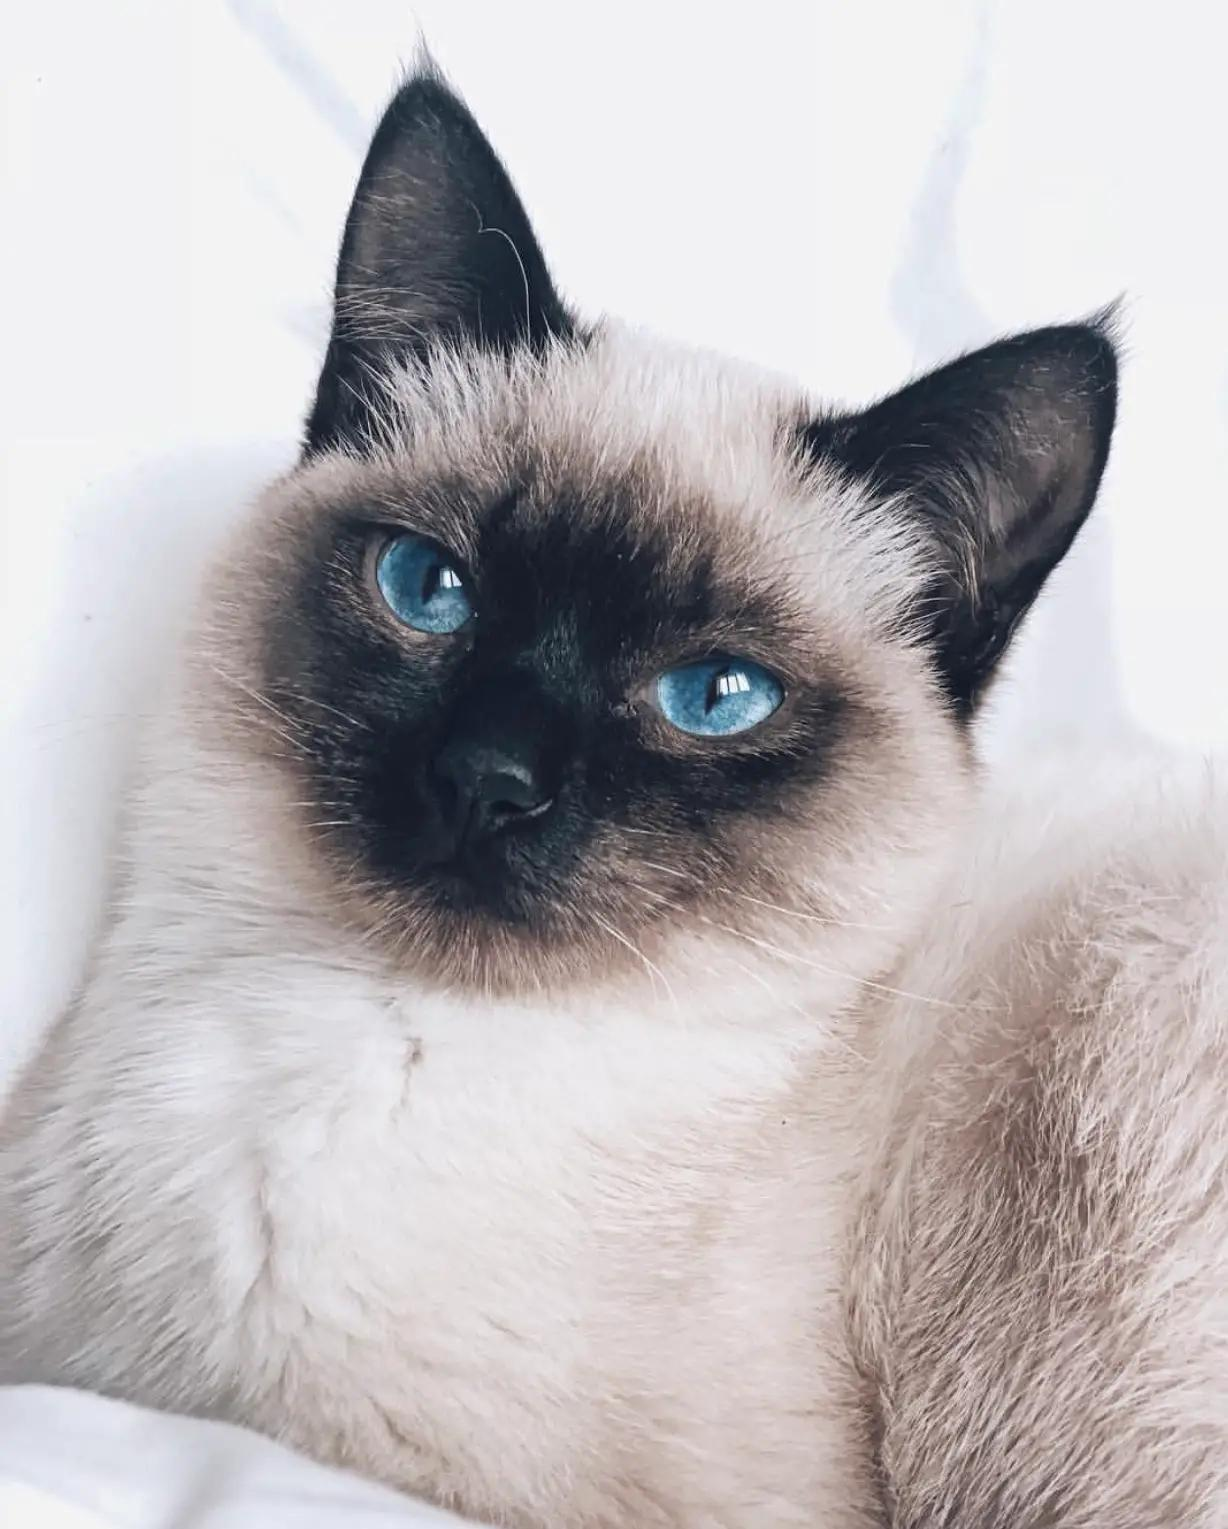siamese: (221, 54, 1132, 1004)
